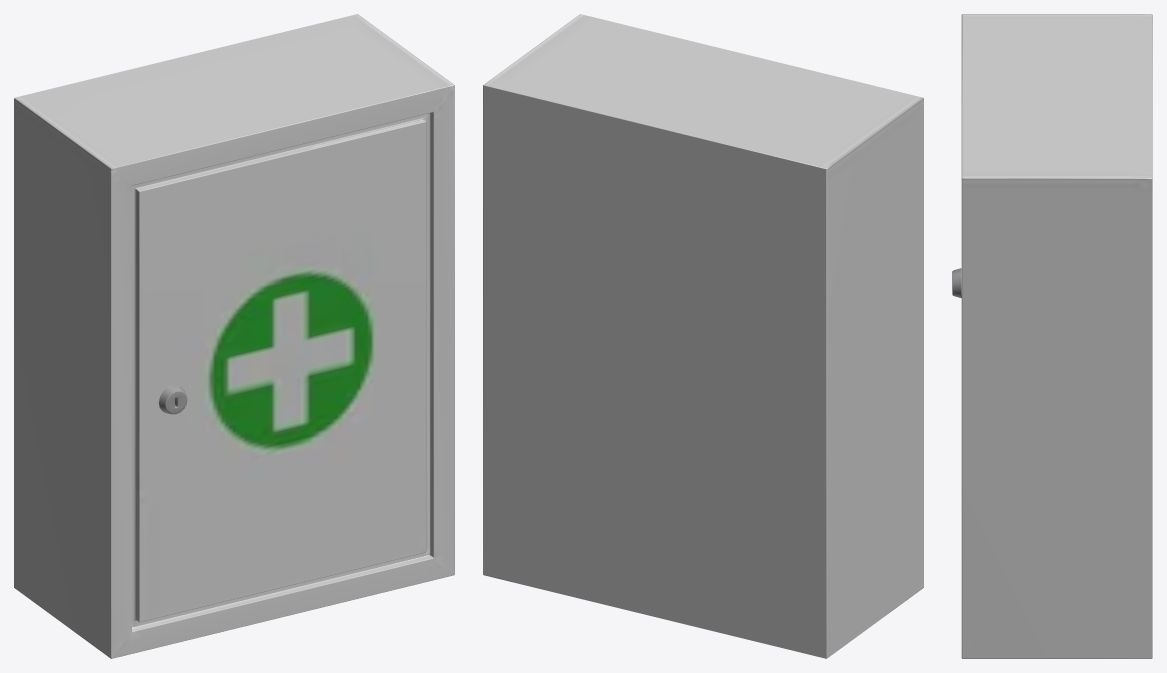
Rendered from med-cupboard.lod0.glb.
3 renders of one model, left to right at view 1: azimuth 30°, elevation 25°; view 2: azimuth 150°, elevation 25°; view 3: azimuth 270°, elevation 25°, orthographic. The views are drawn at different scales.
Parts seen in each view (by area): view 1: MedicineWallCupboard_medince-cupboard-wall_Baked_0; view 2: MedicineWallCupboard_medince-cupboard-wall_Baked_0; view 3: MedicineWallCupboard_medince-cupboard-wall_Baked_0.
Boxes of the visible parts, <box> form: MedicineWallCupboard_medince-cupboard-wall_Baked_0: <box>14,14,454,658</box>; MedicineWallCupboard_medince-cupboard-wall_Baked_0: <box>483,14,923,658</box>; MedicineWallCupboard_medince-cupboard-wall_Baked_0: <box>952,14,1152,658</box>.
Bounding box in the file's own units: 0.6 × 0.817 × 0.3082.
1 material, 1 textured.
